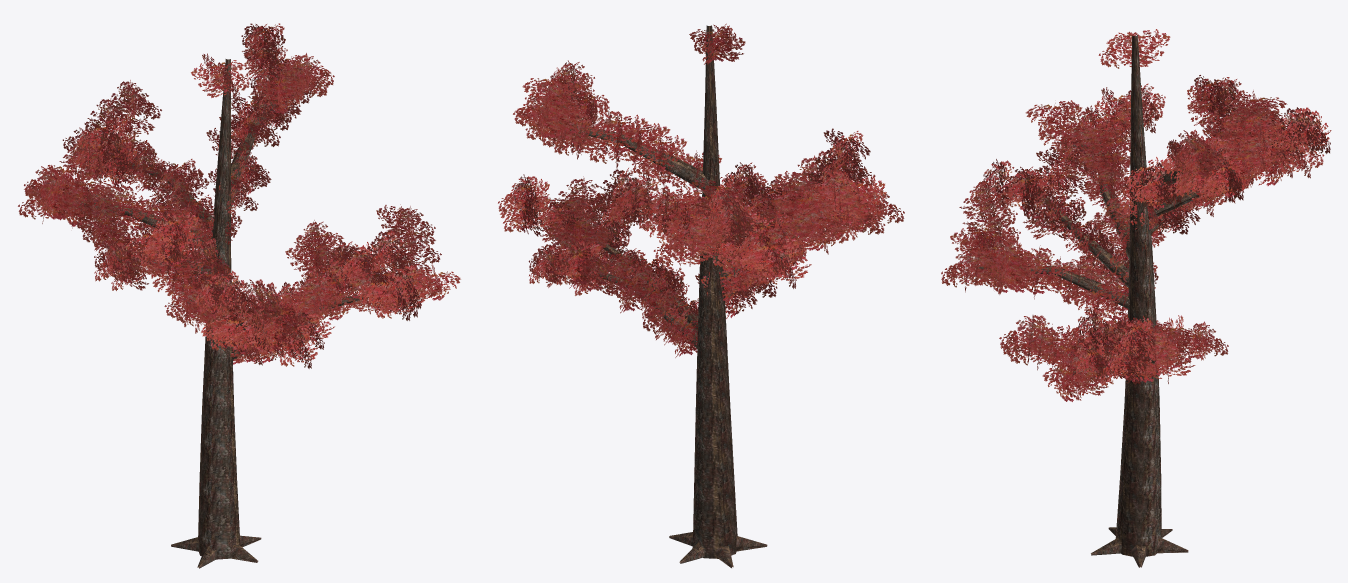
File: tree_3d_05_red_lod1.glb
3 views of the same model, side by side, from view 1: azimuth 30°, elevation 25°; view 2: azimuth 150°, elevation 25°; view 3: azimuth 270°, elevation 25° (orthographic). The views are drawn at different scales.
Visible parts, largest first — view 1: foliage_cards, wood_geometry; view 2: foliage_cards, wood_geometry; view 3: foliage_cards, wood_geometry.
Boxes of the visible parts, left/top/right/bottom form: foliage_cards: left=18, top=23, right=460, bottom=368; wood_geometry: left=72, top=59, right=428, bottom=568; foliage_cards: left=498, top=23, right=904, bottom=357; wood_geometry: left=550, top=25, right=843, bottom=568; foliage_cards: left=941, top=29, right=1331, bottom=401; wood_geometry: left=978, top=35, right=1278, bottom=567.
Size of the model in its own units: 11.18 by 14.65 by 10.09.
2 materials, 2 textured.
